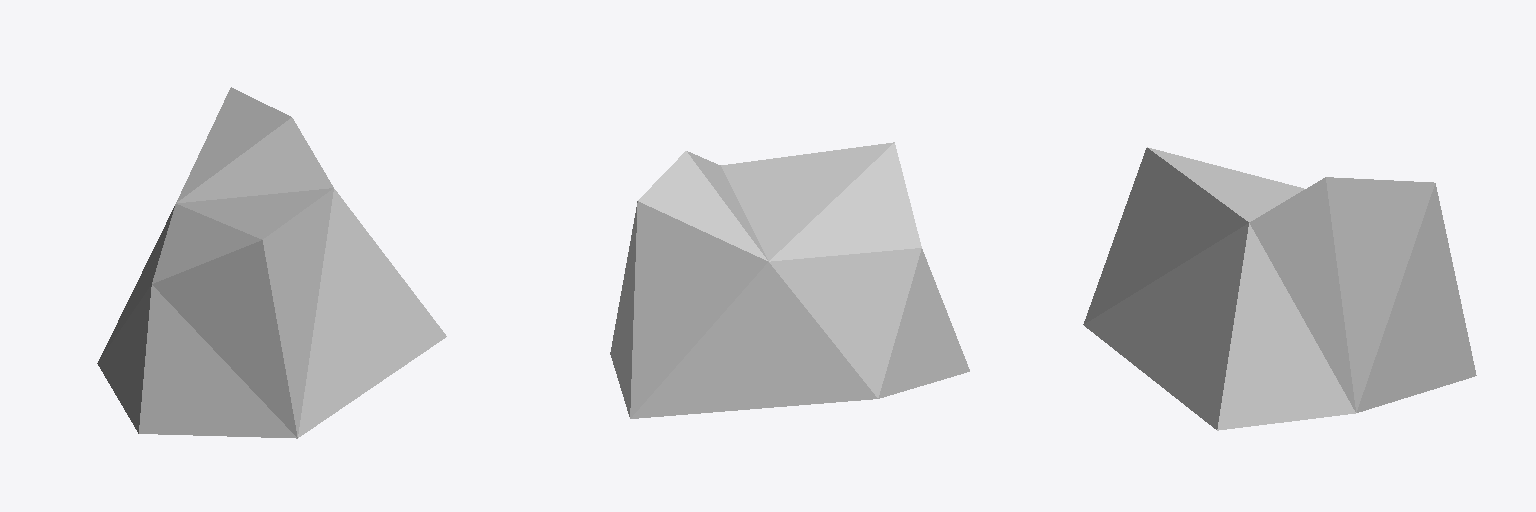
File: Rock_3_Medium.obj
The picture shows the model from 3 angles: view 1: azimuth 30°, elevation 25°; view 2: azimuth 150°, elevation 25°; view 3: azimuth 270°, elevation 25°; orthographic projection.
Parts seen in each view (by area): view 1: Rock_Medium_pCube7; view 2: Rock_Medium_pCube7; view 3: Rock_Medium_pCube7.
Boxes of the visible parts, x1,y1,x2,y2 form: Rock_Medium_pCube7: [97, 87, 446, 438]; Rock_Medium_pCube7: [610, 142, 969, 418]; Rock_Medium_pCube7: [1083, 147, 1476, 430].
Size of the model in its own units: 1.72 by 1.1 by 1.83.